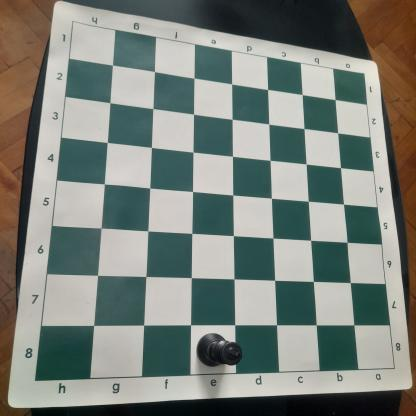black-king: (196, 332, 244, 374)
